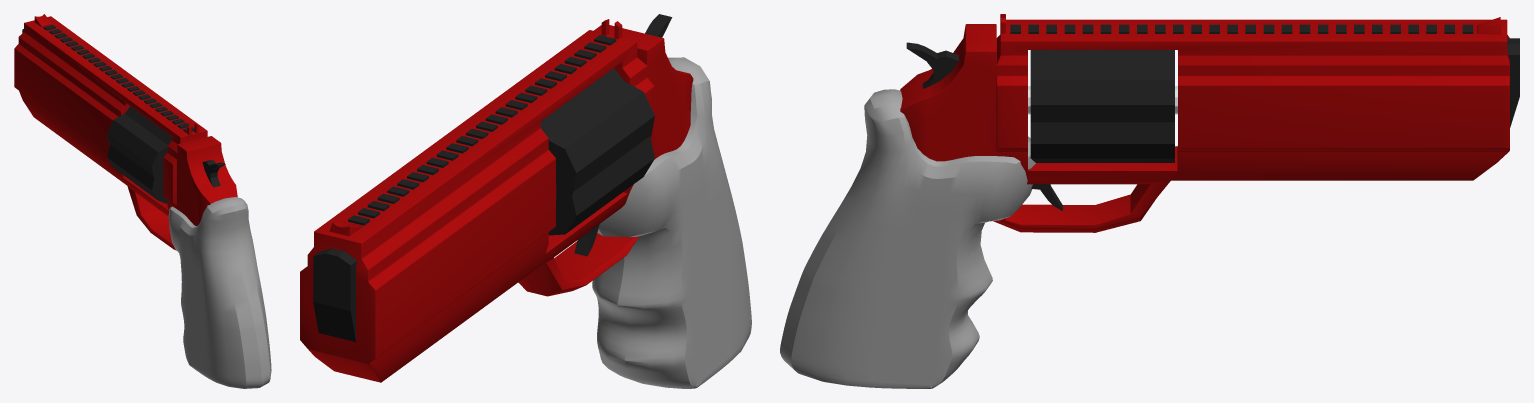
Rendered from revolver.fbx.
3 views of the same model, side by side, from view 1: azimuth 30°, elevation 25°; view 2: azimuth 150°, elevation 25°; view 3: azimuth 270°, elevation 25° (orthographic). The views are drawn at different scales.
Parts seen in each view (by area): view 1: Cube, Cube.001, Cylinder, Cube.003, Cube.002; view 2: Cube, Cube.001, Cylinder, Cube.003, Cube.005, Cube.004, Cube.002; view 3: Cube, Cube.001, Cylinder, Cube.003, Cube.002, Cube.005.
Part boxes in pixels (x1,y1,x2,y2): Cube: [14, 14, 237, 250]; Cube.001: [168, 197, 271, 388]; Cylinder: [107, 106, 171, 203]; Cube.003: [43, 24, 194, 132]; Cube.002: [202, 160, 225, 187]; Cube: [300, 19, 693, 382]; Cube.001: [592, 57, 751, 388]; Cylinder: [540, 68, 654, 235]; Cube.003: [348, 35, 616, 225]; Cube.005: [313, 248, 356, 341]; Cube.004: [574, 224, 599, 256]; Cube.002: [645, 14, 672, 37]; Cube: [900, 14, 1509, 232]; Cube.001: [780, 89, 1035, 388]; Cylinder: [1030, 50, 1174, 162]; Cube.003: [1010, 24, 1473, 33]; Cube.002: [906, 42, 958, 88]; Cube.005: [1507, 38, 1519, 127].
Bounding box in the file's own units: 193 × 629 × 1184.
